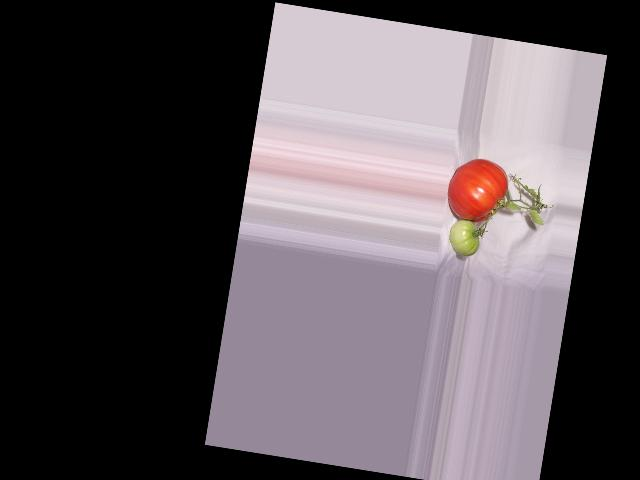tomato: (444, 154, 511, 226)
